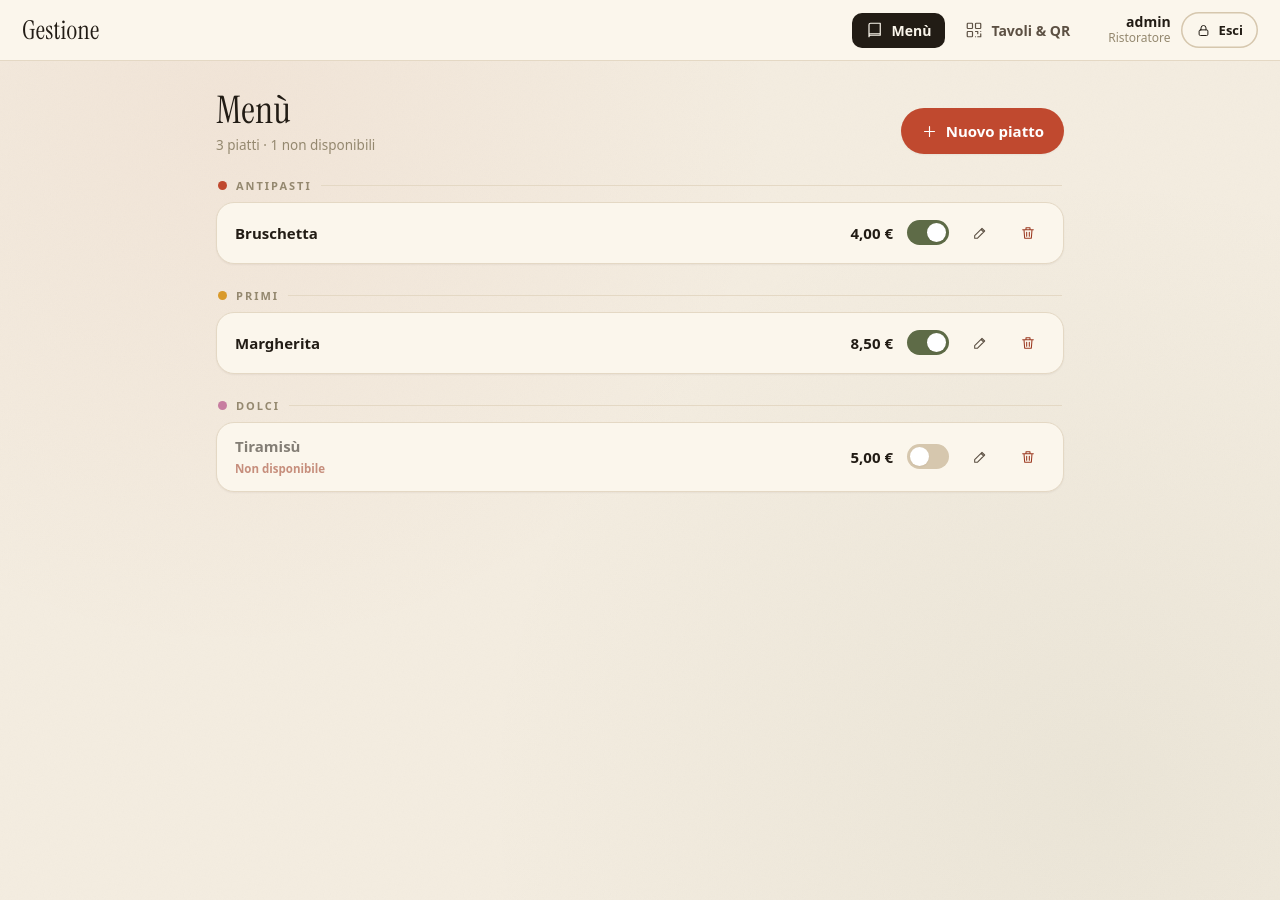
Scenario: menu › elimina un piatto dopo la conferma
The width and height of the screenshot is (1280, 900).
Click the button named "Elimina Bruschetta" at (1028,233), box left=1011, top=216, right=1045, bottom=250
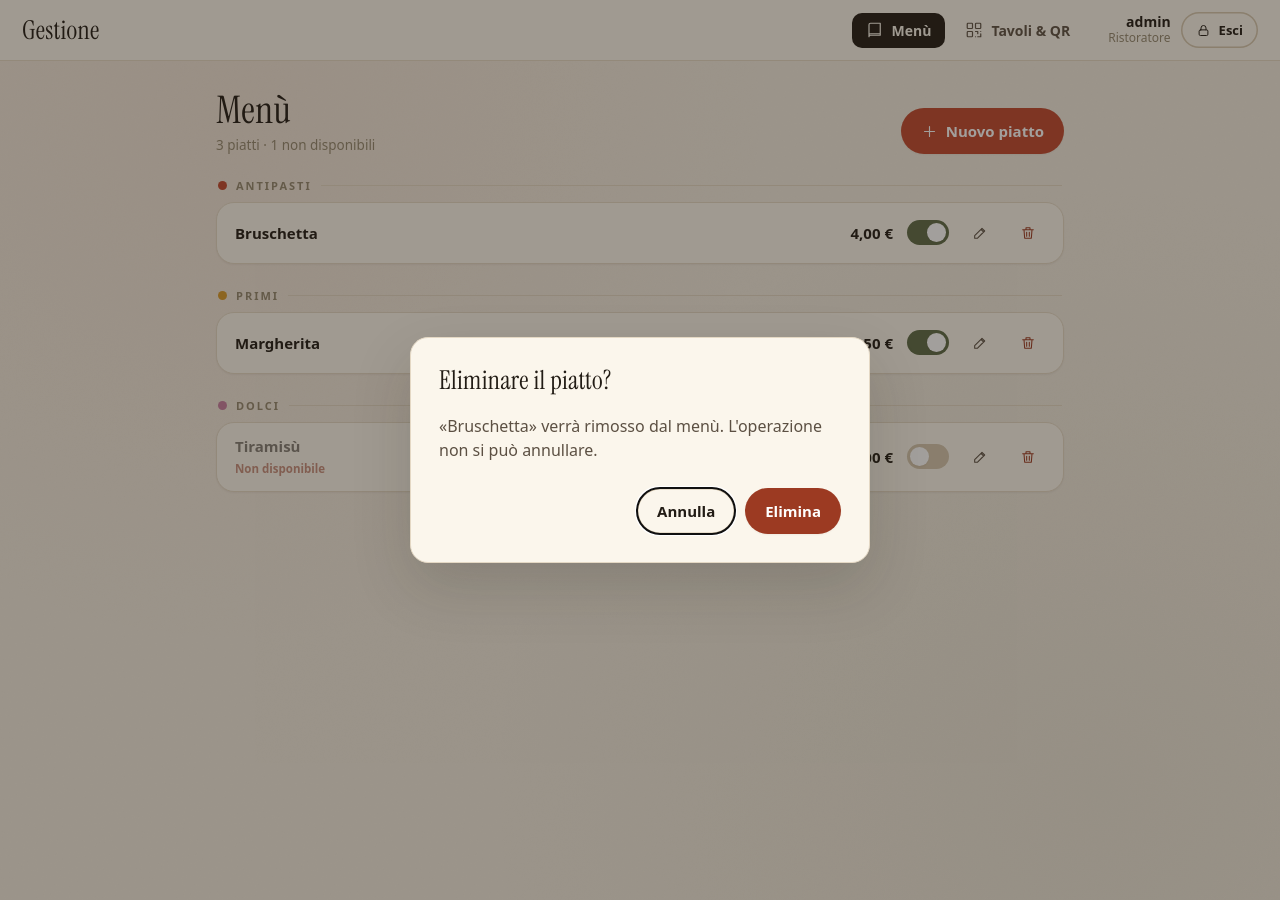
Click the button "Elimina" at (793,511), box left=745, top=488, right=841, bottom=534
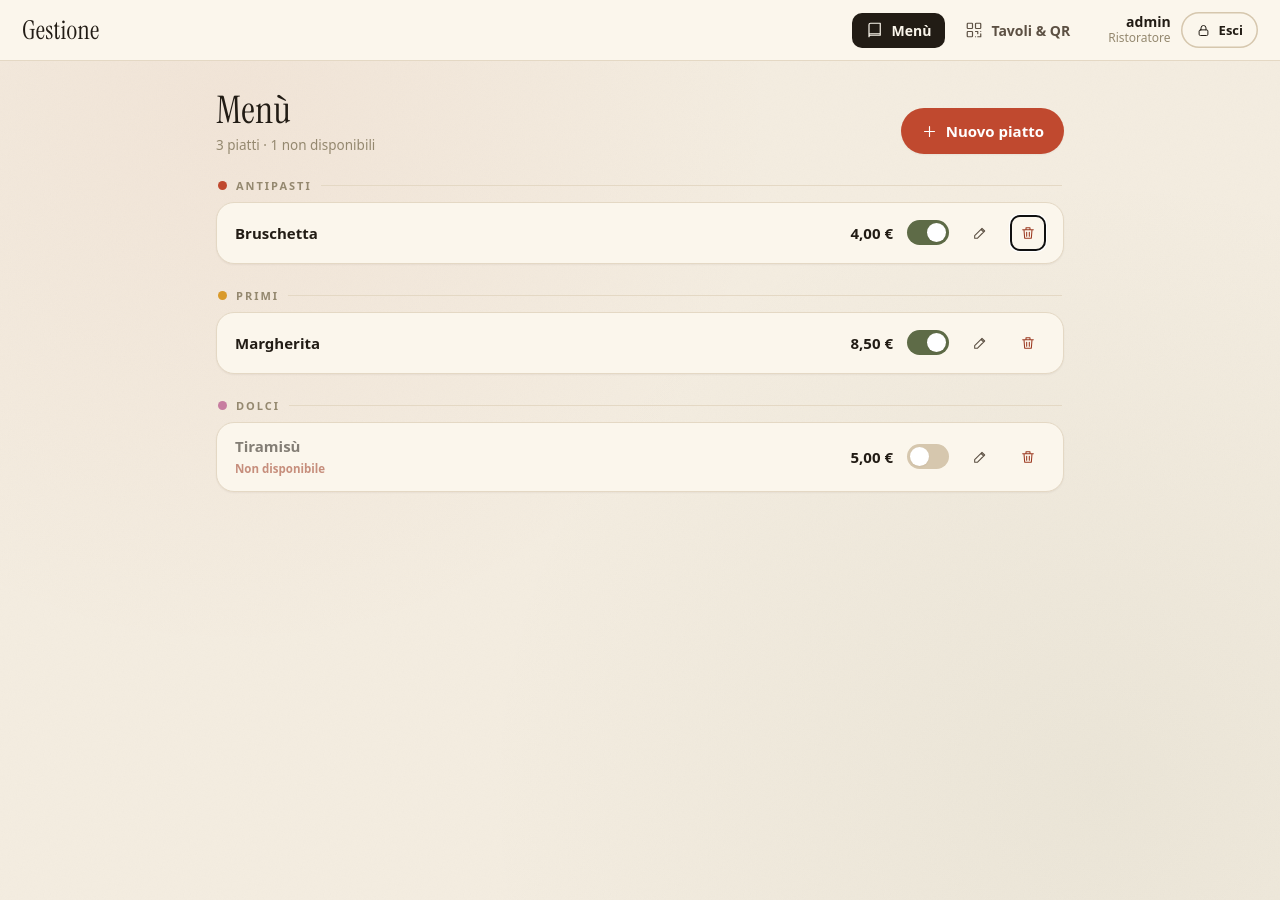
Expected: the dialog is gone
